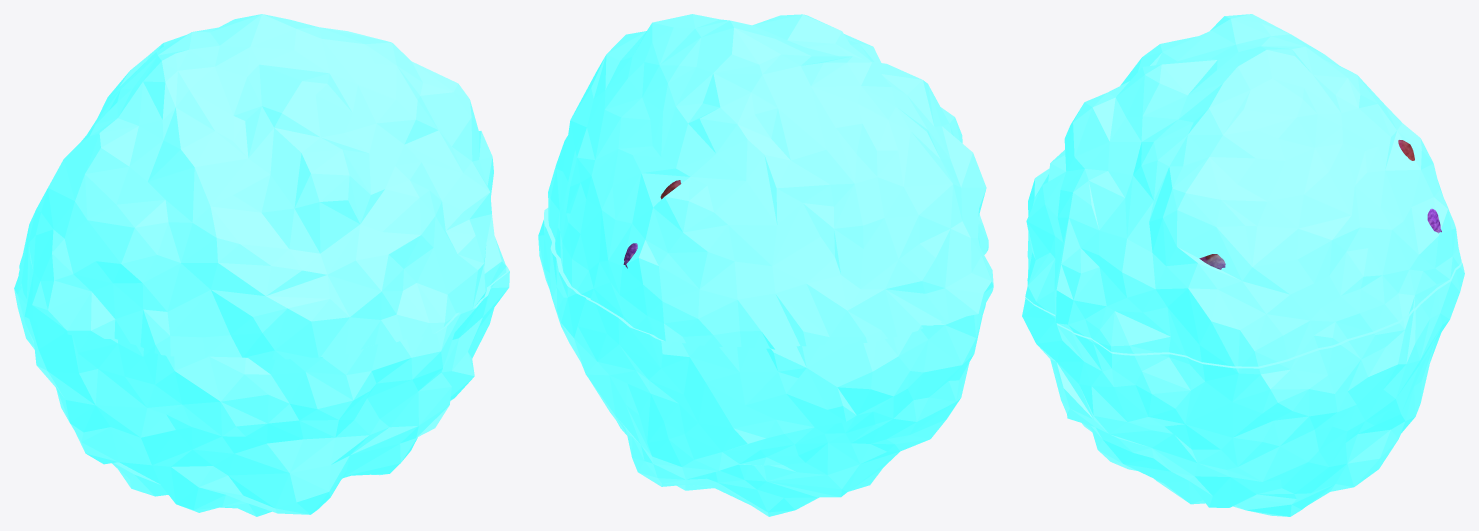
File: Rhinovirus_v04.fbx
3 views of the same model, side by side, from view 1: azimuth 30°, elevation 25°; view 2: azimuth 150°, elevation 25°; view 3: azimuth 270°, elevation 25° (orthographic). The views are drawn at different scales.
Visible parts, largest first — view 1: emission003, emission002; view 2: emission003, emission002; view 3: emission003, emission002, mesh.obj002.
Boxes of the visible parts, <box> form: emission003: <box>18,14,506,359</box>; emission002: <box>14,265,509,516</box>; emission003: <box>548,14,993,349</box>; emission002: <box>538,208,985,516</box>; emission003: <box>1025,14,1461,366</box>; emission002: <box>1022,260,1464,516</box>; mesh.obj002: <box>1199,140,1441,269</box>.
Bounding box in the file's own units: 94.45 × 96.33 × 85.28.
2 materials, 1 textured.
